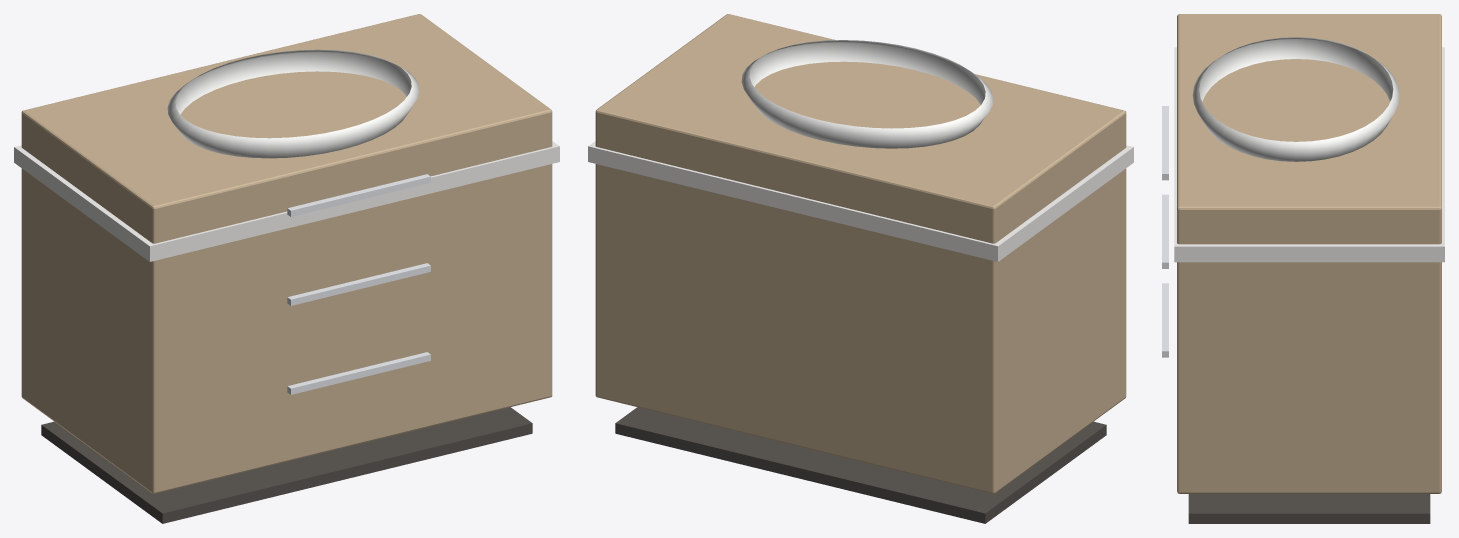
Rendered from vanity-floating-3drawer.glb.
3 renders of one model, left to right at view 1: azimuth 30°, elevation 25°; view 2: azimuth 150°, elevation 25°; view 3: azimuth 270°, elevation 25°, orthographic.
Parts seen in each view (by area): view 1: body; view 2: body; view 3: body.
Boxes of the visible parts, x1,y1,x2,y2 form: body: [14, 14, 559, 523]; body: [588, 14, 1133, 523]; body: [1162, 14, 1444, 523].
Size of the model in its own units: 0.82 by 0.66 by 0.491.
